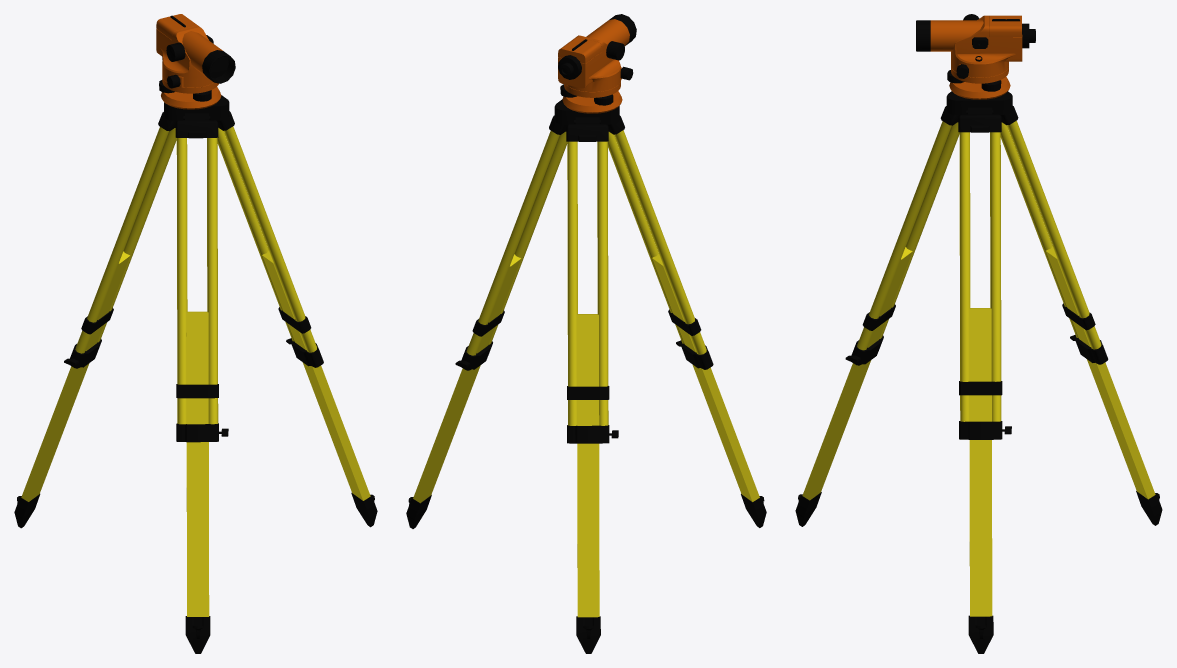
The model's file is 水准仪.FBX.
The picture shows the model from 3 angles, left to right: view 1: azimuth 30°, elevation 25°; view 2: azimuth 150°, elevation 25°; view 3: azimuth 270°, elevation 25°; orthographic projection.
Parts seen in each view (by area): view 1: ShuiZhuiyi; view 2: ShuiZhuiyi; view 3: ShuiZhuiyi.
Boxes of the visible parts, x1,y1,x2,y2 form: ShuiZhuiyi: (14,14,377,653); ShuiZhuiyi: (406,14,766,653); ShuiZhuiyi: (795,14,1162,653).
Bounding box in the file's own units: 81.33 × 152 × 92.61.
